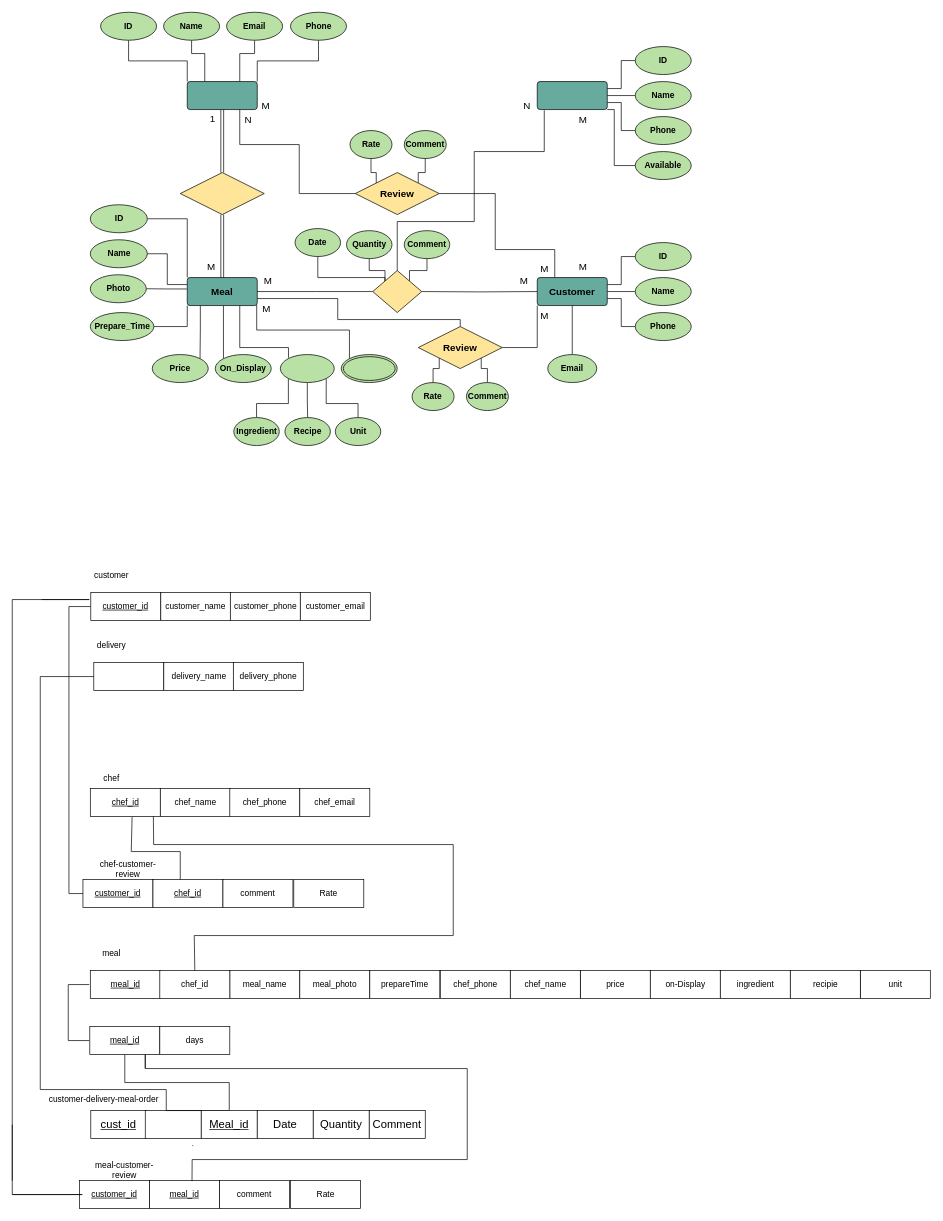
Image size: 943x1221. Some labels were removed from this diagram. The box of each missing label's shape, as (x1, y1, x2, y2) in pixels:
Cheif: (187, 81, 257, 110)
Day: (341, 354, 397, 383)
Delivary: (537, 81, 607, 110)
delivery_id: (93, 662, 164, 691)
delv_id: (145, 1110, 201, 1139)
Description: (280, 354, 334, 383)
Make: (180, 172, 264, 215)
Order: (372, 270, 422, 313)
